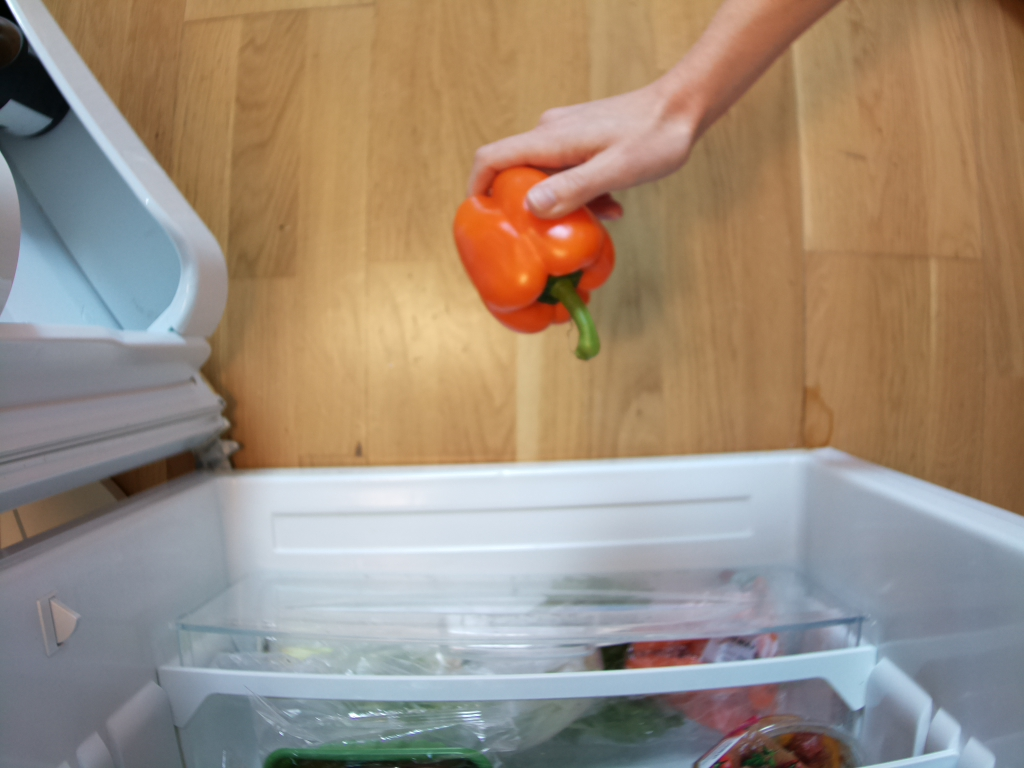pepper: (452, 165, 615, 361)
